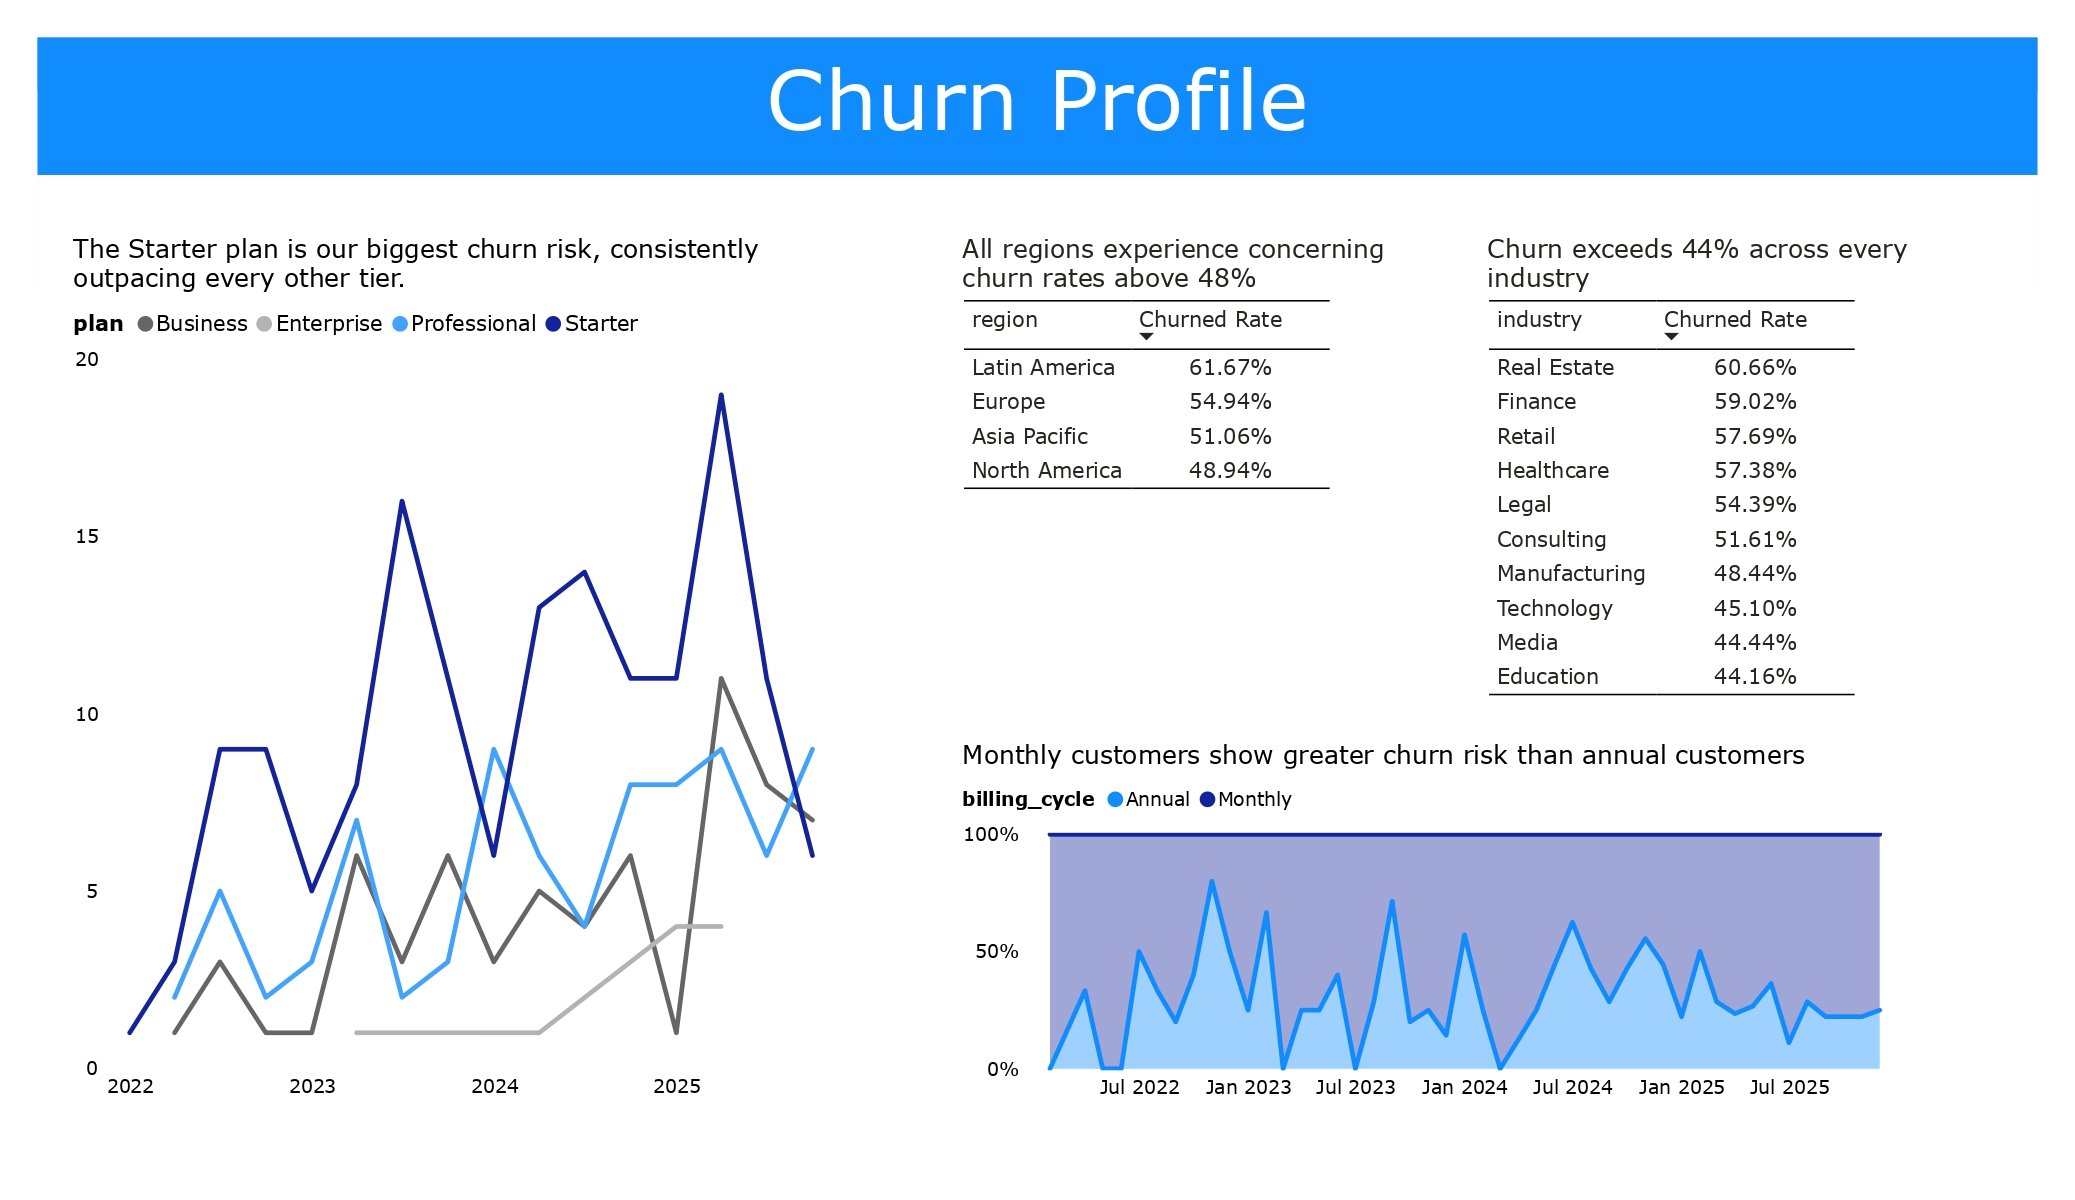

The dashboard page shown, as its layout file describes it:
{"tool":"powerbi","page":{"name":"Churn Profile","canvas":[1280,720],"ordinal":1},"visuals":[{"type":"lineChart","title":"The Starter plan is our biggest churn risk, consistently outpacing every other tier.","fields":{"Category":["subscriptions.churn_date.Variation.Date Hierarchy.Year","subscriptions.churn_date.Variation.Date Hierarchy.Quarter","subscriptions.churn_date.Variation.Date Hierarchy.Month","subscriptions.churn_date.Variation.Date Hierarchy.Day"],"Y":["subscriptions.Churned Customer"],"Series":["subscriptions.plan"]},"box":[18.5,124.6,498.5,564.2],"z":0},{"type":"hundredPercentStackedAreaChart","title":"Monthly customers show greater churn risk than annual customers","fields":{"Category":["subscriptions.churn_date.Variation.Date Hierarchy.Year","subscriptions.churn_date.Variation.Date Hierarchy.Quarter","subscriptions.churn_date.Variation.Date Hierarchy.Month","subscriptions.churn_date.Variation.Date Hierarchy.Day"],"Y":["subscriptions.Churned Customer"],"Series":["subscriptions.billing_cycle"]},"box":[587.3,448.8,623.1,240],"z":1000},{"type":"tableEx","title":"Churn exceeds 44% across every industry","fields":{"Values":["subscriptions.industry","subscriptions.churn rate"]},"box":[923.1,124.6,287.3,313.8],"z":2000},{"type":"tableEx","title":"All regions experience concerning churn rates above 48%","fields":{"Values":["subscriptions.region","subscriptions.churn rate"]},"box":[587.3,124.6,283.8,264.2],"z":3000},{"type":"textbox","box":[0,0,1279.6,88],"z":4000}]}

Visuals, with their boxes on the page's 1280x720 design canvas (x1, y1, x2, y2). These are canvas units, not pixel positions in the 2075x1200 screenshot, which may show the page scaled, cropped or inside an application window:
"The Starter plan is our biggest churn risk, consistently outpacing every other tier." lineChart: bbox=(18, 125, 517, 689)
"Monthly customers show greater churn risk than annual customers" hundredPercentStackedAreaChart: bbox=(587, 449, 1210, 689)
"Churn exceeds 44% across every industry" tableEx: bbox=(923, 125, 1210, 438)
"All regions experience concerning churn rates above 48%" tableEx: bbox=(587, 125, 871, 389)
textbox: bbox=(0, 0, 1280, 88)
